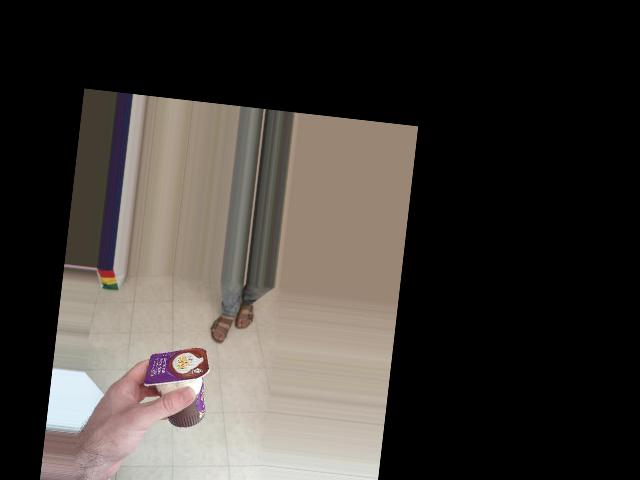milky: (148, 338, 240, 410)
